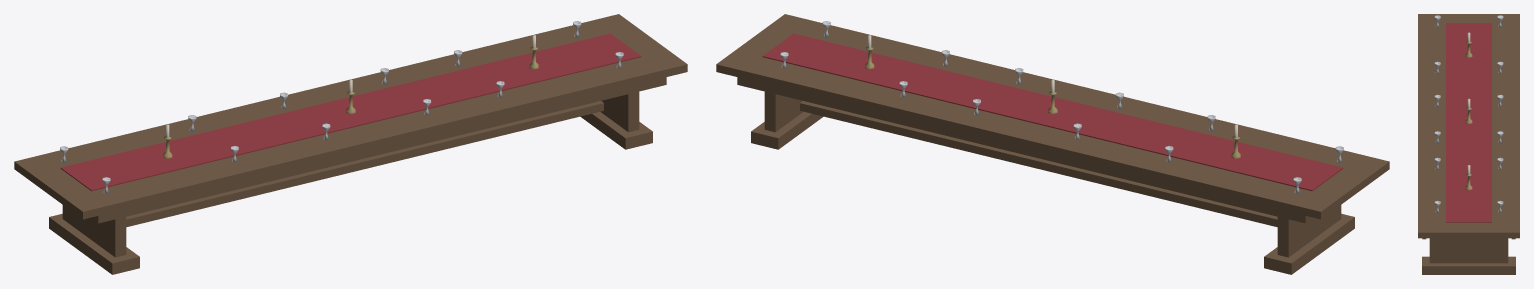
The model's file is LongTable.fbx.
The picture shows the model from 3 angles, left to right: view 1: azimuth 30°, elevation 25°; view 2: azimuth 150°, elevation 25°; view 3: azimuth 270°, elevation 25°; orthographic projection. The views are drawn at different scales.
Visible parts, largest first — view 1: LongTable; view 2: LongTable; view 3: LongTable.
Boxes of the visible parts, box(x1,y1,x2,y2) form: LongTable: box(14, 14, 687, 274); LongTable: box(716, 14, 1389, 274); LongTable: box(1418, 14, 1519, 274).
Size of the model in its own units: 6.6 by 1.1 by 1.3.
